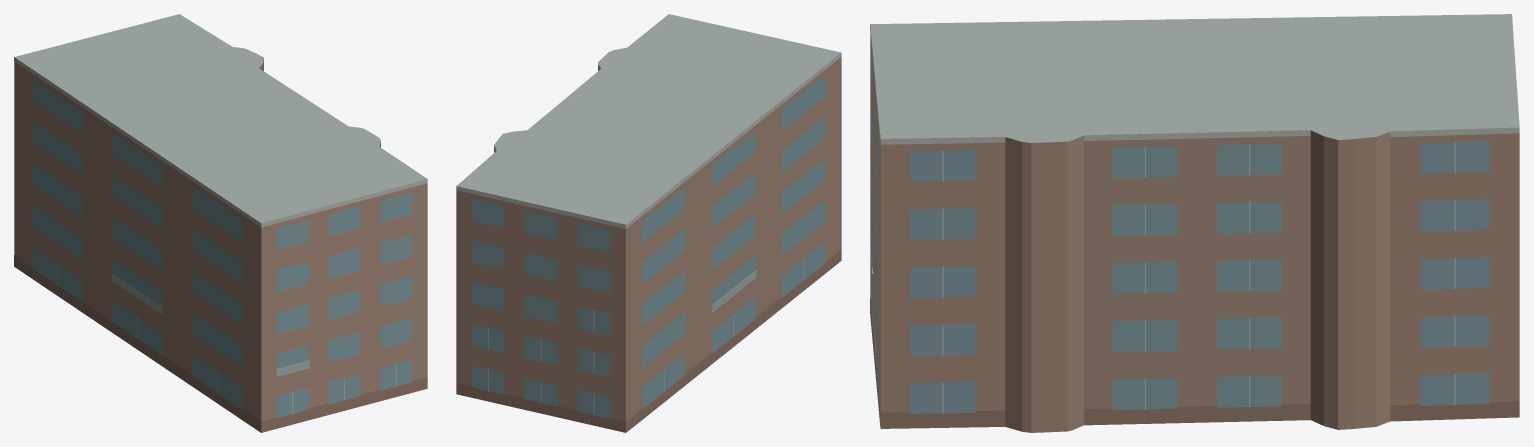
File: survey-upis-32946754.glb
3 renders of one model, left to right at view 1: azimuth 30°, elevation 25°; view 2: azimuth 150°, elevation 25°; view 3: azimuth 270°, elevation 25°, orthographic. The views are drawn at different scales.
Visible parts, largest first — view 1: survey-upis-32946754.tmp; view 2: survey-upis-32946754.tmp; view 3: survey-upis-32946754.tmp.
Part boxes in pixels (x1,y1,x2,y2): survey-upis-32946754.tmp: (14, 14, 427, 432); survey-upis-32946754.tmp: (456, 14, 841, 432); survey-upis-32946754.tmp: (870, 14, 1519, 432).
Bounding box in the file's own units: 11.75 × 12.3 × 24.98.
